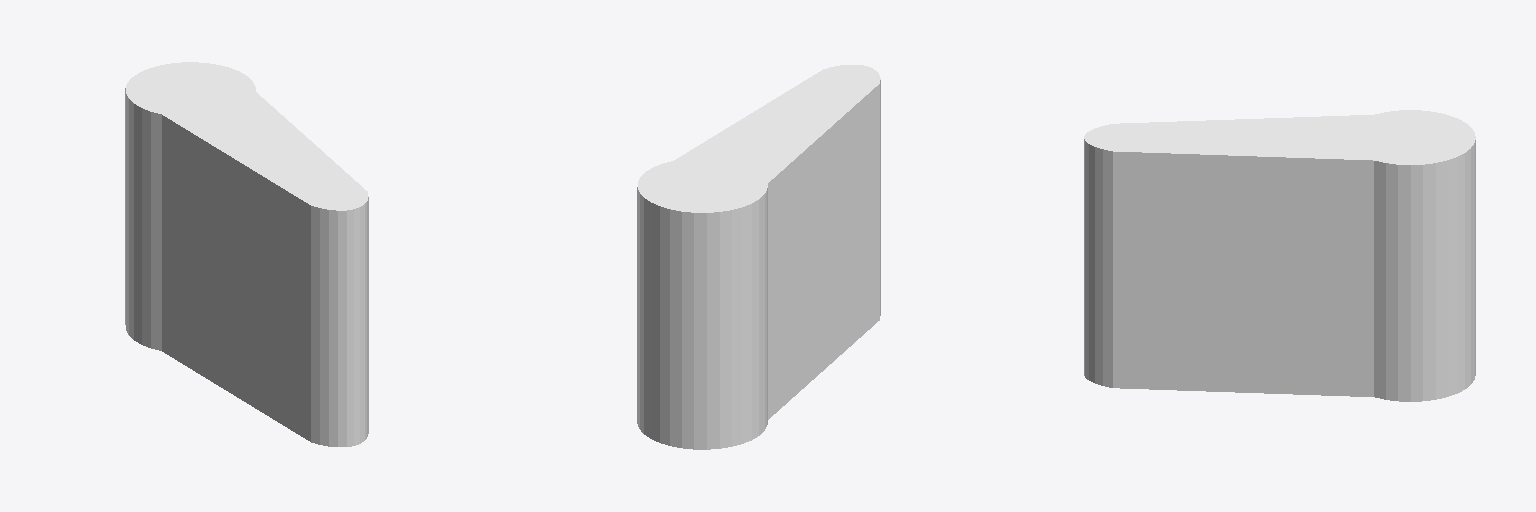
The model's file is flipper.obj.
3 renders of one model, left to right at view 1: azimuth 30°, elevation 25°; view 2: azimuth 150°, elevation 25°; view 3: azimuth 270°, elevation 25°, orthographic.
Parts seen in each view (by area): view 1: Cylinder; view 2: Cylinder; view 3: Cylinder.
Part boxes in pixels (x1,y1,x2,y2): Cylinder: (125, 62, 368, 446); Cylinder: (637, 65, 880, 449); Cylinder: (1084, 110, 1475, 401).
Size of the model in its own units: 2 by 4 by 6.